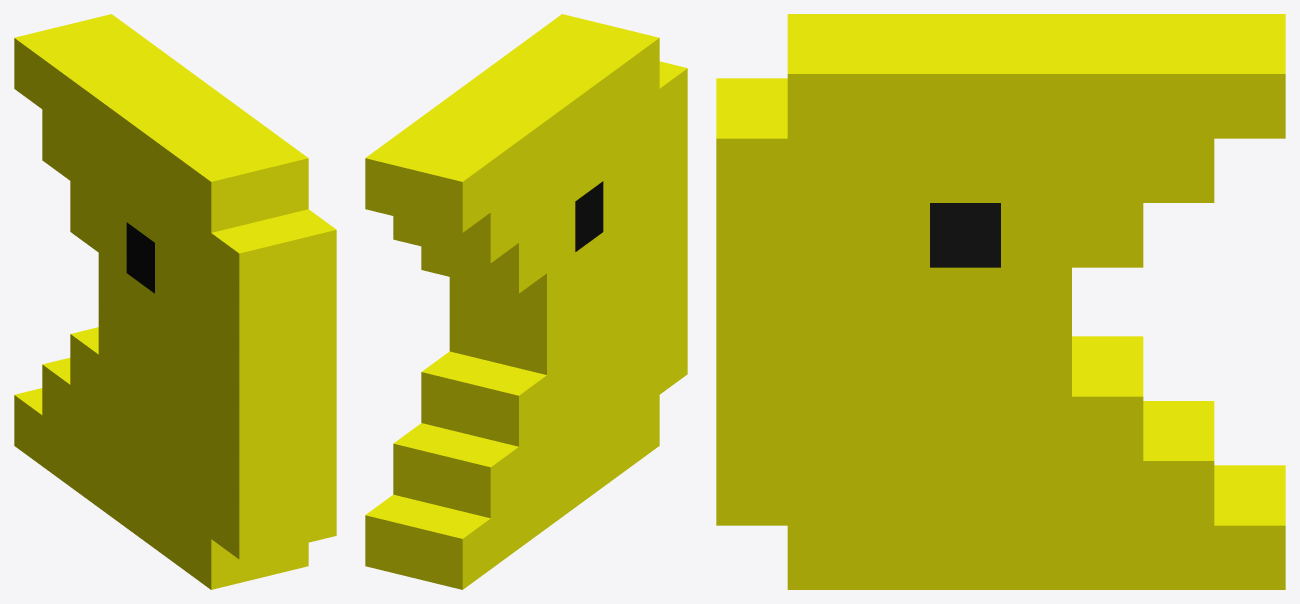
Rendered from pacman.obj.
The picture shows the model from 3 angles, left to right: view 1: azimuth 30°, elevation 25°; view 2: azimuth 150°, elevation 25°; view 3: azimuth 270°, elevation 25°; orthographic projection. The views are drawn at different scales.
Visible parts, largest first — view 1: pacman; view 2: pacman; view 3: pacman.
Boxes of the visible parts, <box> form: pacman: <box>14,14,336,589</box>; pacman: <box>365,14,687,589</box>; pacman: <box>716,14,1285,589</box>.
Bounding box in the file's own units: 2 × 8 × 8.
